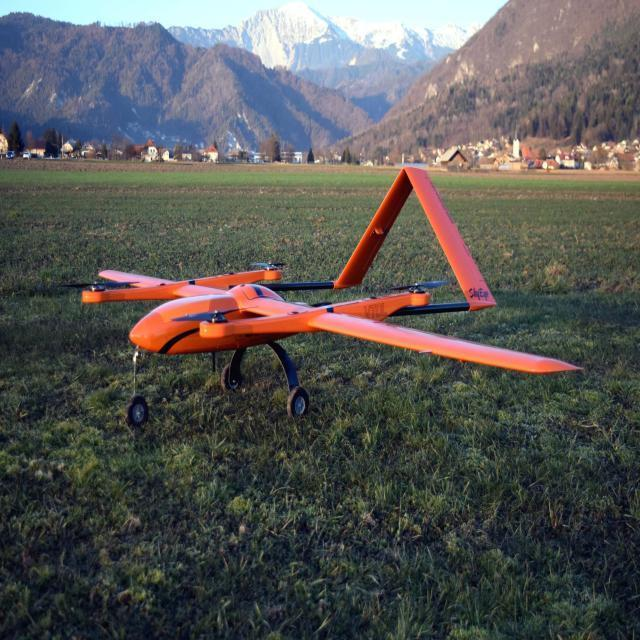iha: (62, 162, 586, 444)
